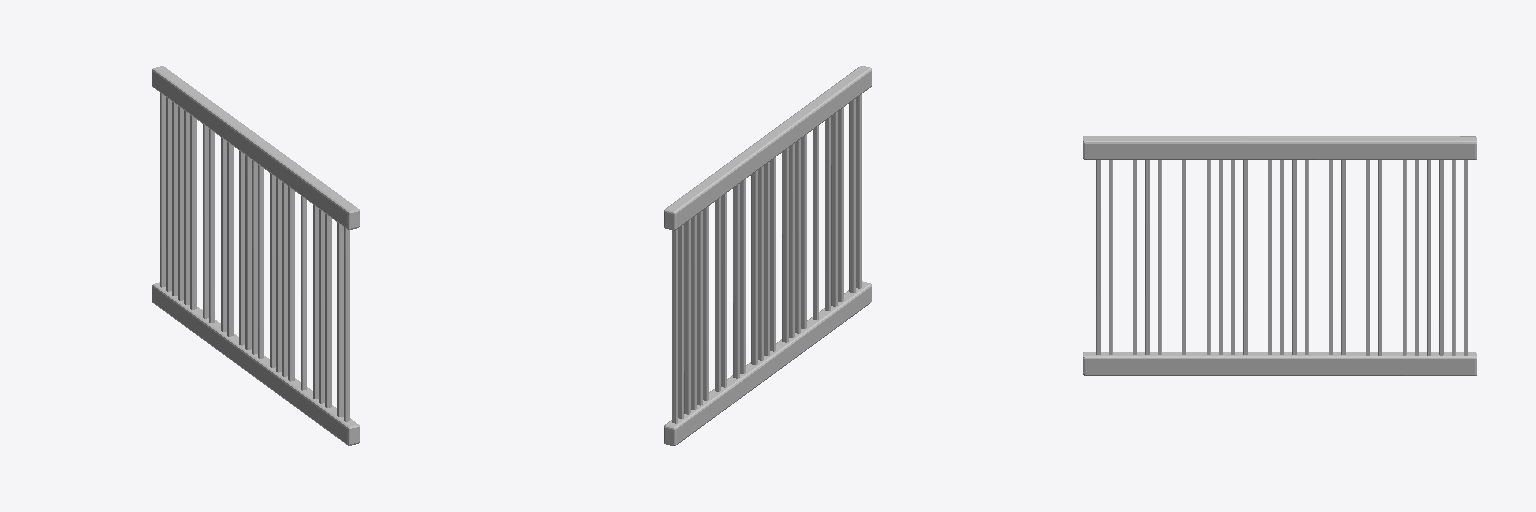
Rendered from sekat.obj.
3 views of the same model, side by side, from view 1: azimuth 30°, elevation 25°; view 2: azimuth 150°, elevation 25°; view 3: azimuth 270°, elevation 25° (orthographic).
Visible parts, largest first — view 1: group16; view 2: group16; view 3: group16.
Part boxes in pixels (bbox=[...]): group16: bbox=[152, 66, 359, 445]; group16: bbox=[664, 66, 871, 445]; group16: bbox=[1083, 136, 1476, 375].
Size of the model in its own units: 13.34 by 242 by 368.